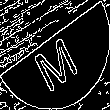M_NW: (28, 21, 82, 89)
